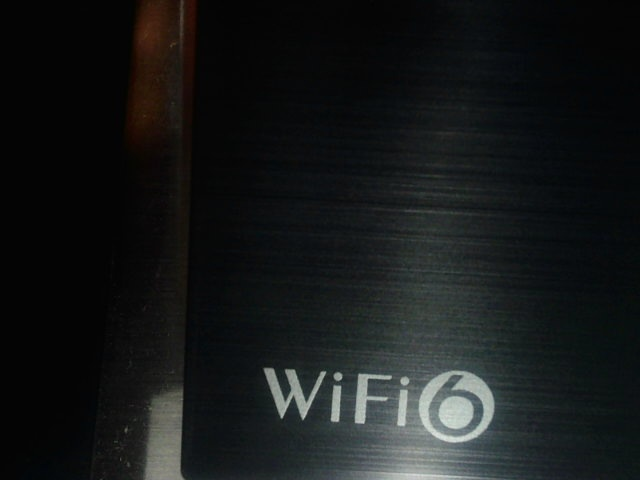AK_ZTEWIFI6Black: (256, 356, 502, 446)
